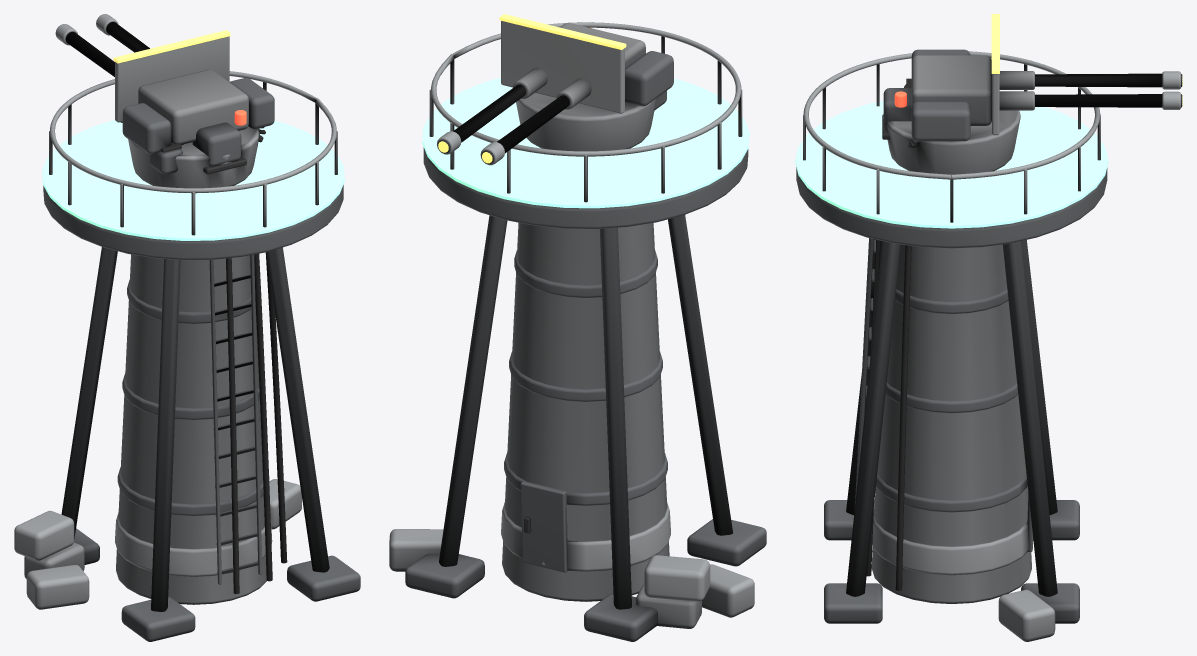
Rendered from turret.glb.
The picture shows the model from 3 angles, left to right: view 1: azimuth 30°, elevation 25°; view 2: azimuth 150°, elevation 25°; view 3: azimuth 270°, elevation 25°; orthographic projection. The views are drawn at different scales.
Parts seen in each view (by area): view 1: Base_mesh, Gun_mesh, Head_mesh; view 2: Base_mesh, Gun_mesh, Head_mesh; view 3: Base_mesh, Gun_mesh, Head_mesh.
Part boxes in pixels (<box>): Base_mesh: <box>14,71,360,641</box>; Gun_mesh: <box>55,14,274,158</box>; Head_mesh: <box>128,110,259,188</box>; Base_mesh: <box>389,22,766,641</box>; Gun_mesh: <box>437,14,673,165</box>; Head_mesh: <box>516,27,666,151</box>; Base_mesh: <box>795,51,1108,641</box>; Gun_mesh: <box>908,14,1182,147</box>; Head_mesh: <box>882,78,1020,174</box>.
Bounding box in the file's own units: 6.69 × 10.9 × 7.22.
